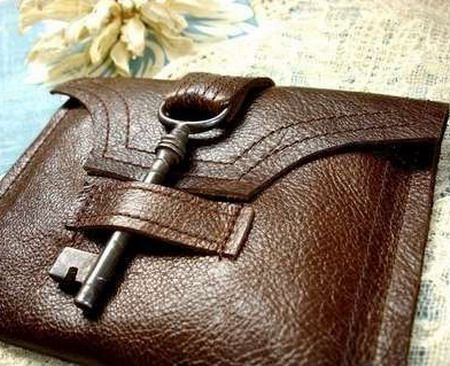cuero: (3, 72, 450, 366)
